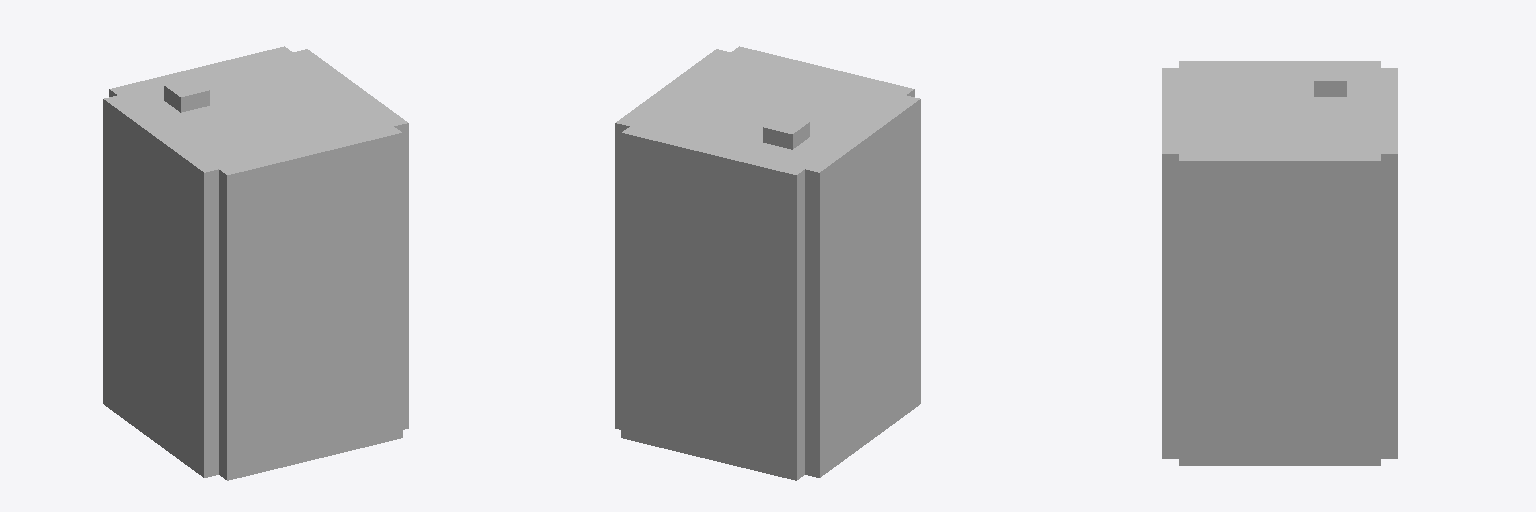
Rendered from barrel.obj.
3 renders of one model, left to right at view 1: azimuth 30°, elevation 25°; view 2: azimuth 150°, elevation 25°; view 3: azimuth 270°, elevation 25°, orthographic.
Parts seen in each view (by area): view 1: cube; view 2: cube; view 3: cube.
Boxes of the visible parts, <box> form: cube: <box>103,46,408,480</box>; cube: <box>615,46,920,480</box>; cube: <box>1162,61,1397,465</box>.
Size of the model in its own units: 0.875 by 1.31 by 0.875.